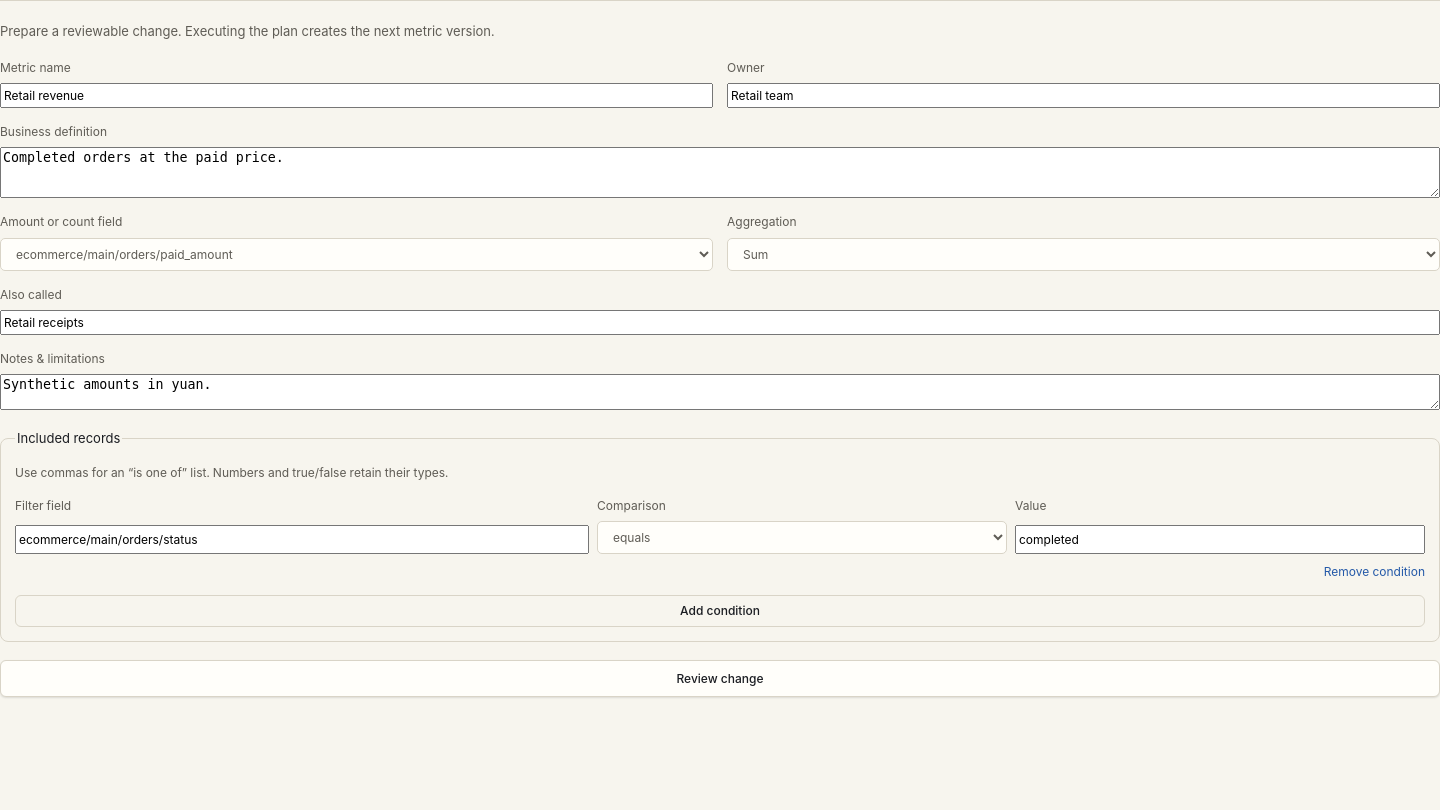
Test case: keeps failed execution receipts visible without claiming the change succeeded
Click the button "Review change".
click(720, 678)  # box [0, 660, 1439, 697]
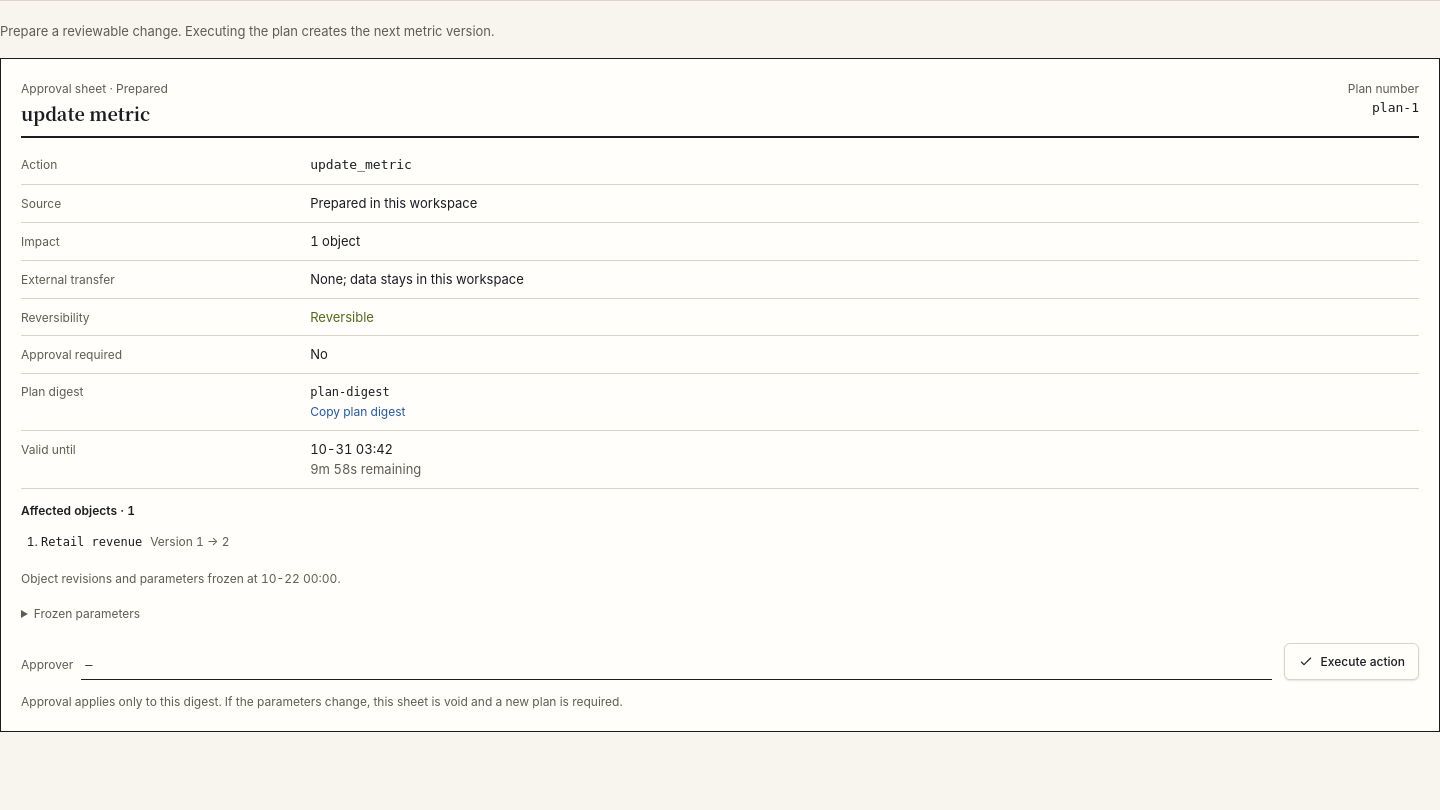
Click the button "Execute action".
click(1351, 662)  # box [1284, 643, 1419, 680]
(page scrolled)
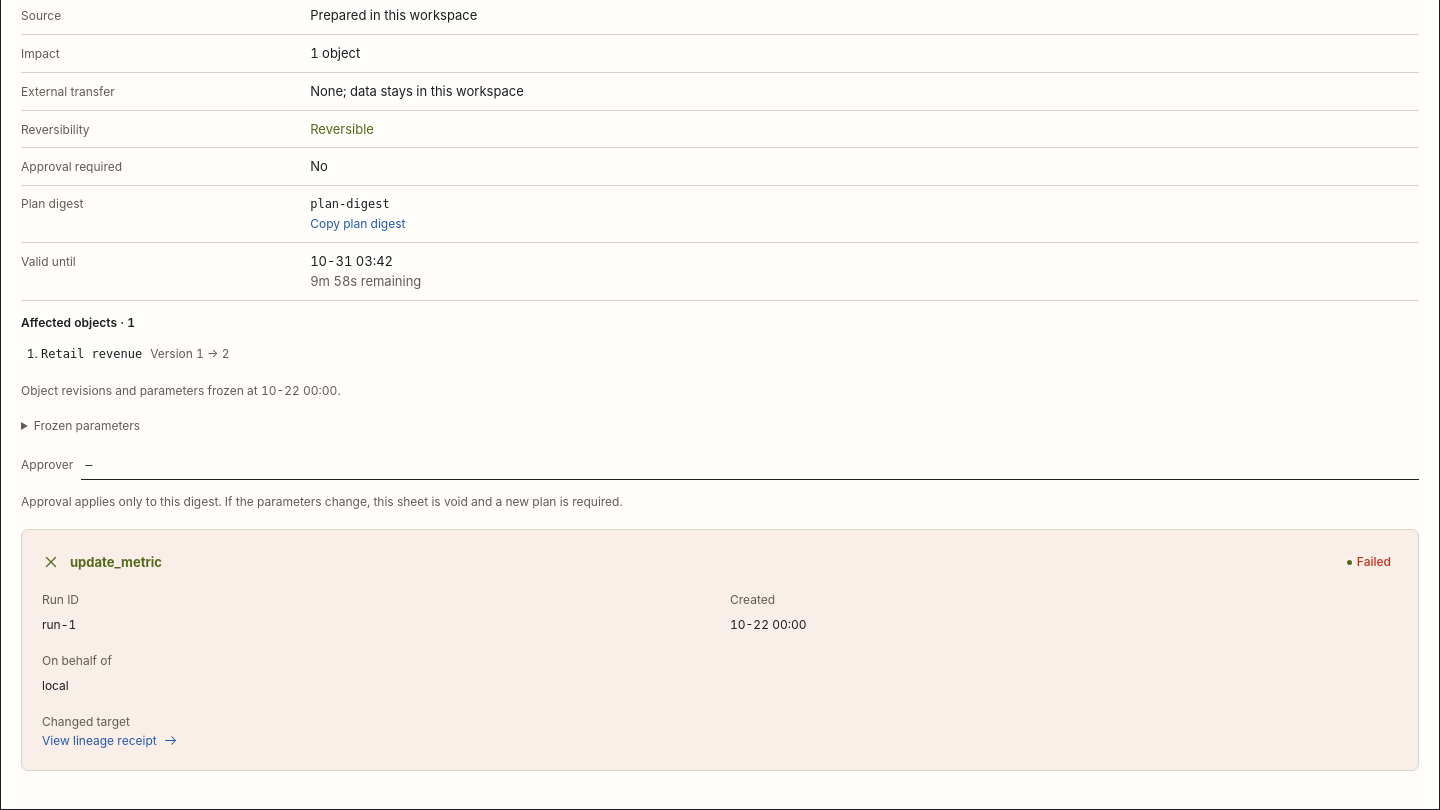
expect the text "Changed target" is shown: met, box [42, 714, 130, 728]
